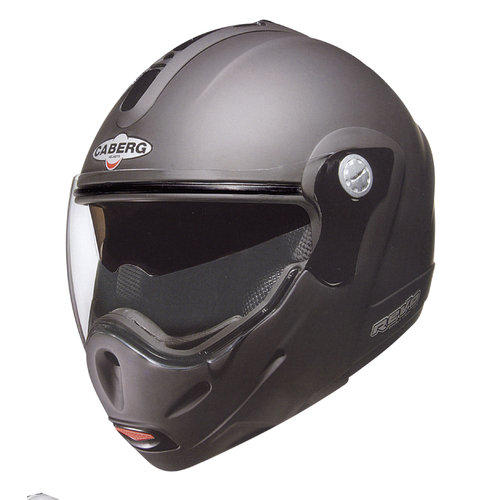helmet: (77, 28, 439, 410)
